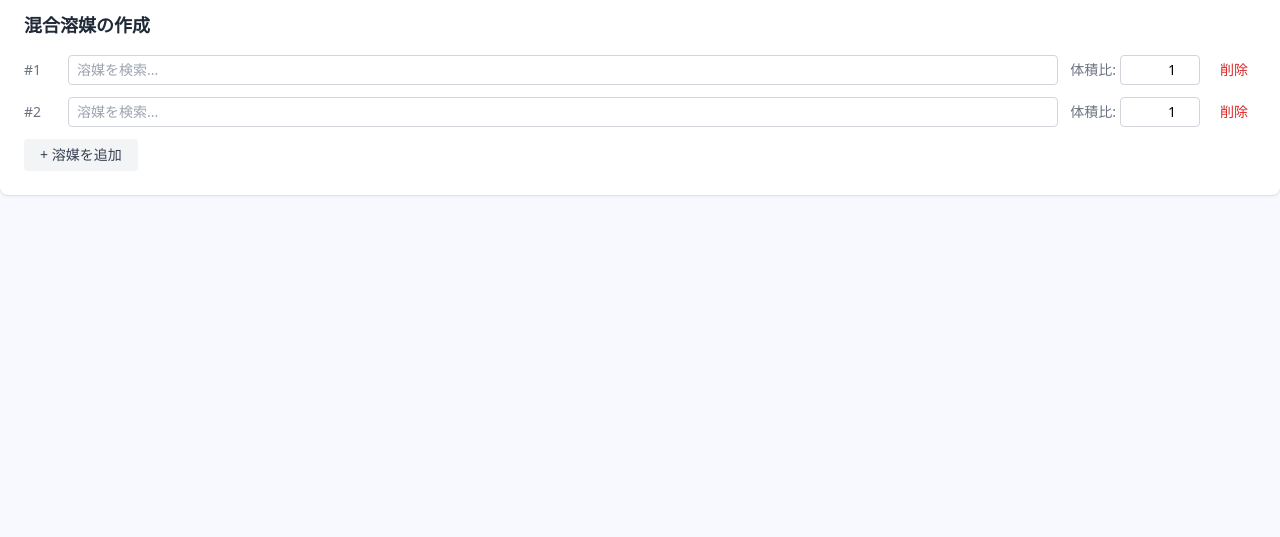
Test case: MixtureLab › 溶媒選択後に計算結果が表示される
1行目でトルエン選択
Click the 1st field with placeholder "溶媒を検索..." at (563, 70), box [68, 55, 1058, 85]
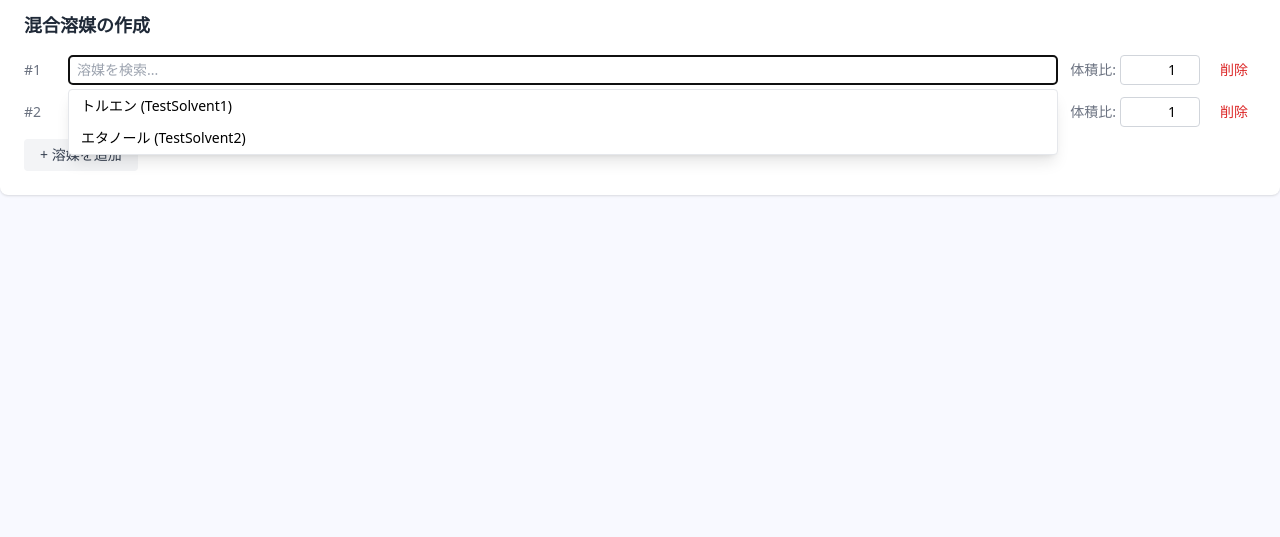
Now the button "トルエン (TestSolvent1)" is shown
Click the button "トルエン (TestSolvent1)" at (109, 106), box [69, 90, 1057, 122]
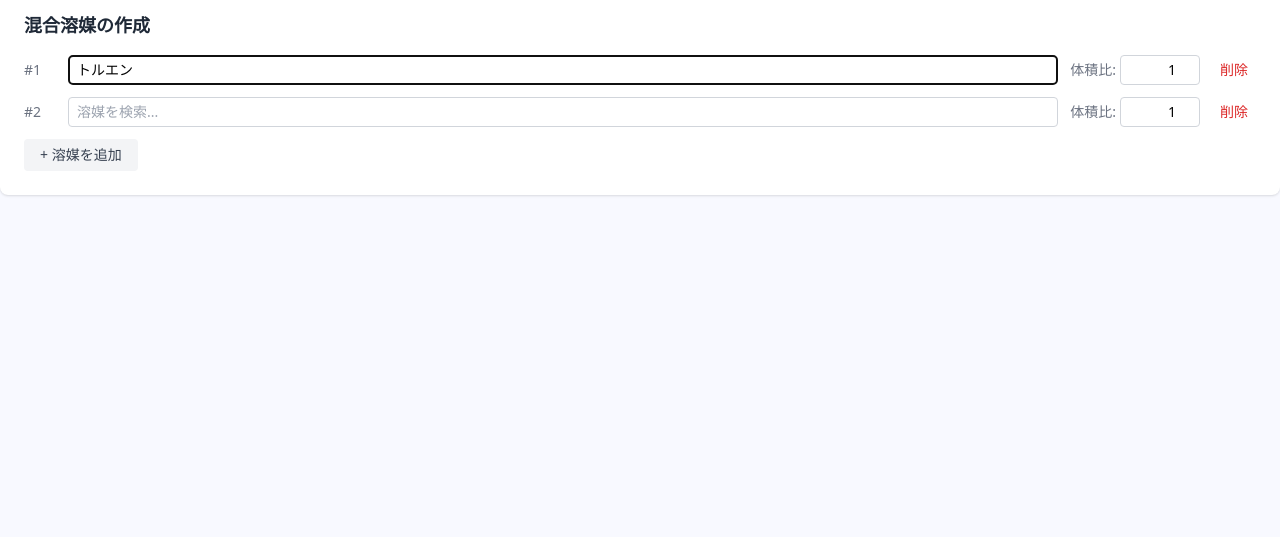
Type "エタ" into the field with placeholder "溶媒を検索..." at (563, 112), box [68, 97, 1058, 127]
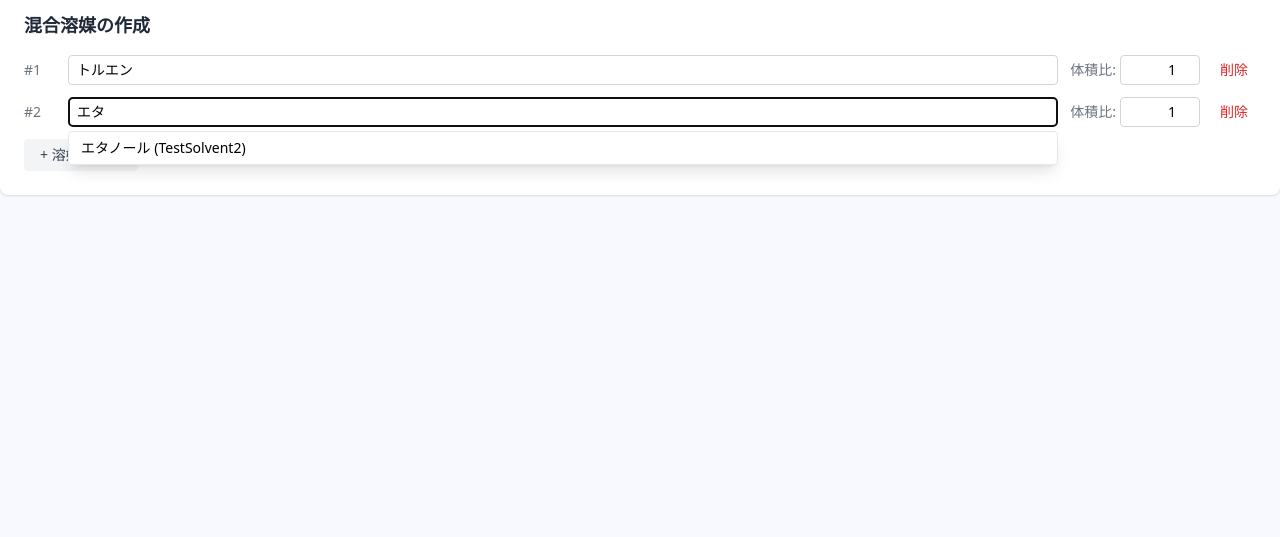
Now the button "エタノール (TestSolvent2)" is shown
Click the button "エタノール (TestSolvent2)" at (116, 148), box [69, 132, 1057, 164]
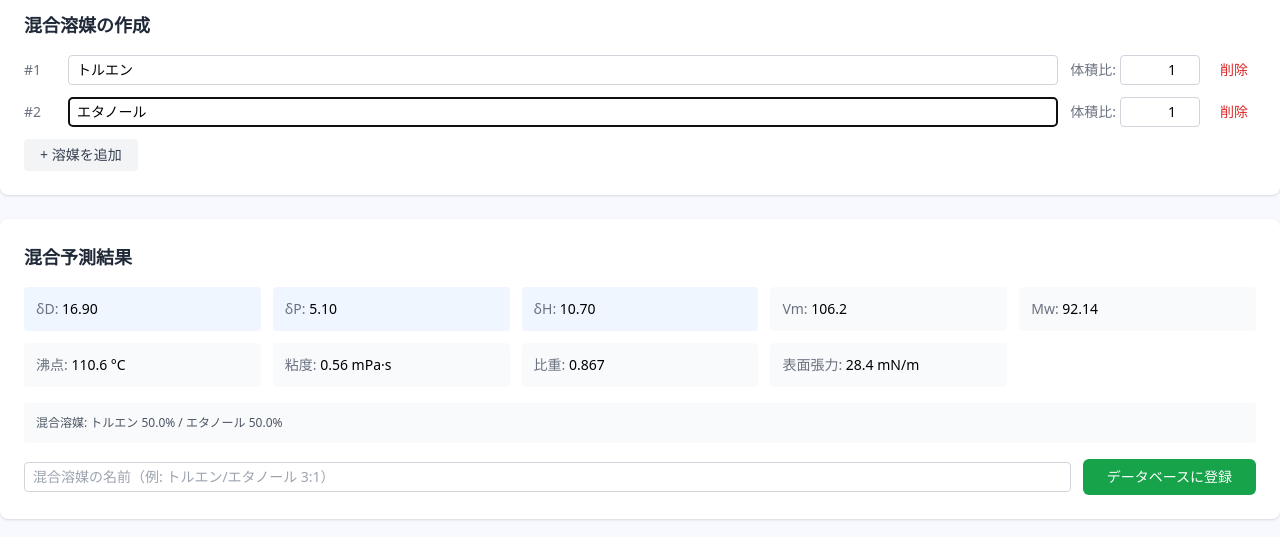
Now the heading "混合予測結果" is shown, box [24, 245, 132, 269]
Now the text "δD:" is shown, box [36, 299, 58, 318]
